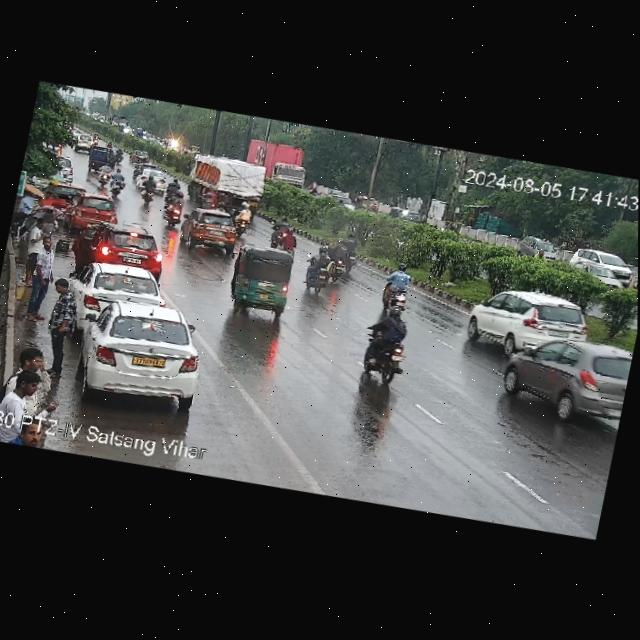car: (66, 288, 213, 412), (491, 324, 634, 431), (462, 279, 599, 352), (222, 240, 301, 325), (74, 215, 169, 279), (73, 256, 164, 322), (181, 205, 243, 259), (571, 243, 636, 286), (63, 191, 121, 235), (570, 258, 630, 296), (515, 230, 566, 267), (46, 154, 80, 185), (52, 182, 86, 211), (85, 146, 117, 171), (136, 165, 168, 189), (328, 192, 361, 214), (130, 147, 153, 165), (74, 131, 95, 148)
motorcycle: (354, 300, 420, 388), (370, 259, 418, 313), (315, 231, 367, 280), (302, 246, 339, 297), (266, 213, 305, 257), (232, 200, 256, 238), (163, 191, 187, 227), (138, 174, 163, 206), (107, 168, 127, 199), (96, 163, 114, 190), (113, 147, 125, 164)
person: (0, 346, 57, 439), (36, 273, 82, 369), (24, 236, 59, 325), (19, 217, 47, 284)
truck: (180, 148, 267, 220), (239, 135, 314, 192), (106, 113, 130, 134)
